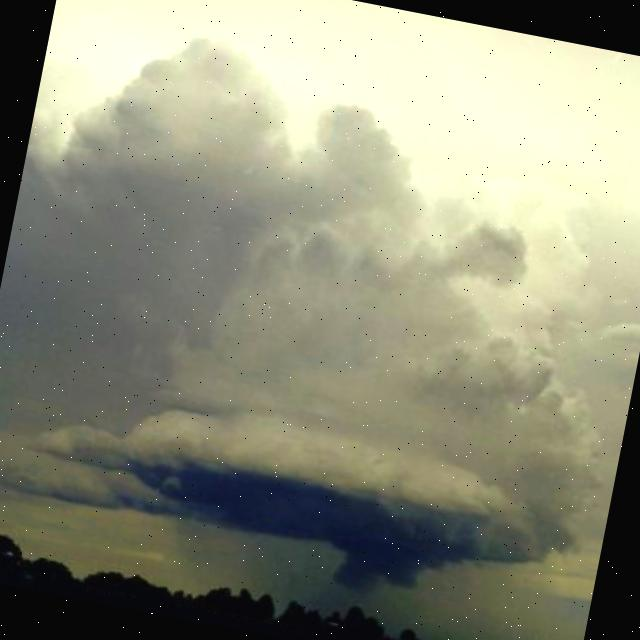Cu: (1, 3, 640, 637)
